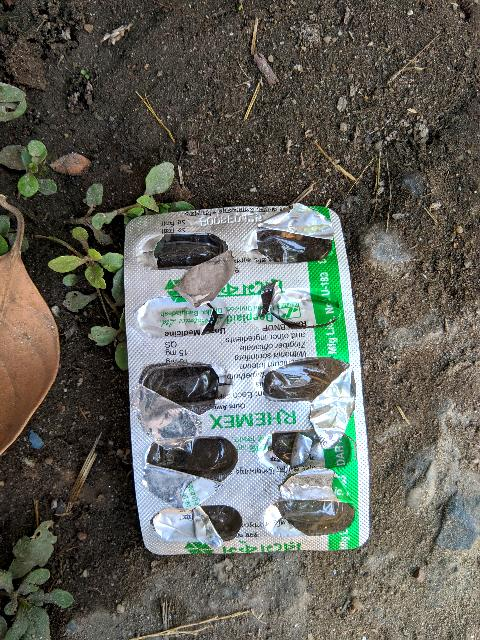medicine: (104, 187, 387, 567)
